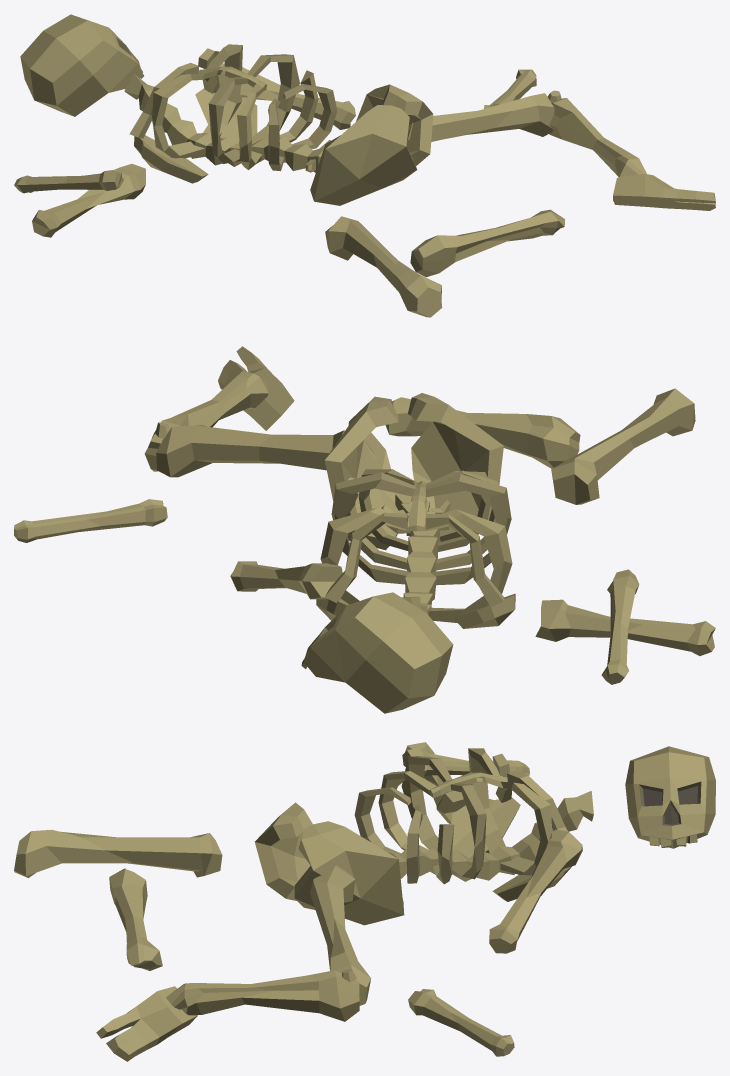
Rendered from Sceleton_2.fbx.
The picture shows the model from 3 angles, top to bottom: view 1: azimuth 30°, elevation 25°; view 2: azimuth 150°, elevation 25°; view 3: azimuth 270°, elevation 25°; orthographic projection. The views are drawn at different scales.
Parts seen in each view (by area): view 1: Sceleton_2; view 2: Sceleton_2; view 3: Sceleton_2.
Part boxes in pixels (bbox=[...]): Sceleton_2: bbox=[14, 14, 715, 317]; Sceleton_2: bbox=[14, 346, 715, 713]; Sceleton_2: bbox=[14, 742, 715, 1061].
Size of the model in its own units: 145 by 28.79 by 149.
